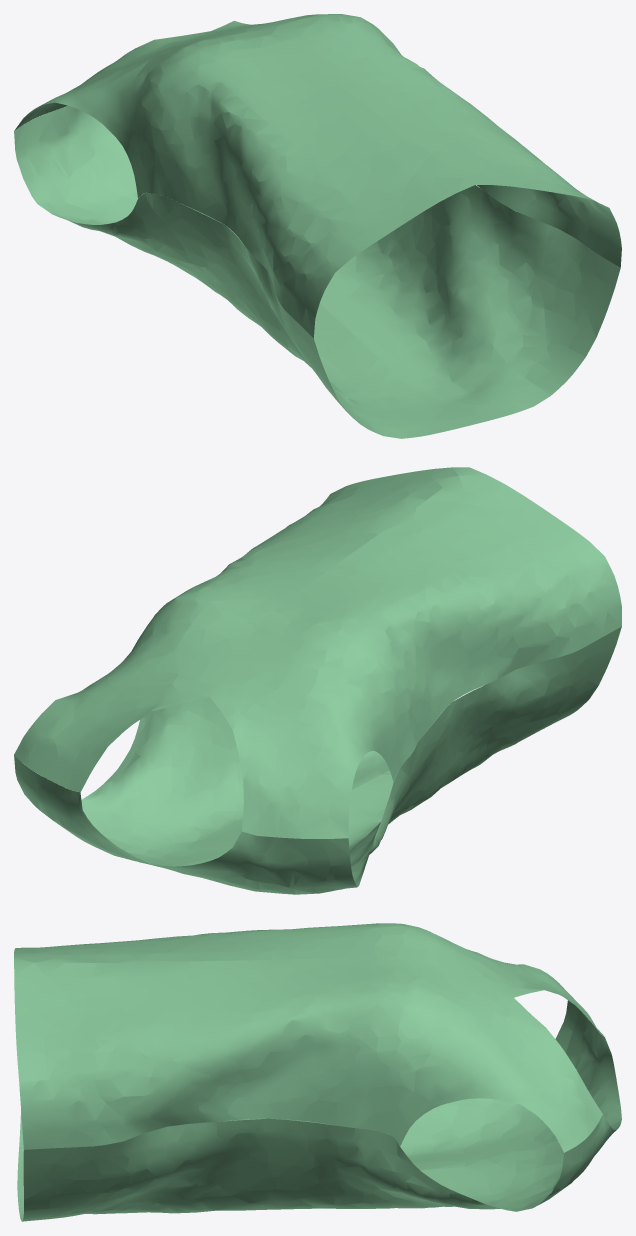
Rendered from hey_doubleface_try.fbx.
The picture shows the model from 3 angles, top to bottom: view 1: azimuth 30°, elevation 25°; view 2: azimuth 150°, elevation 25°; view 3: azimuth 270°, elevation 25°; orthographic projection. The views are drawn at different scales.
Parts seen in each view (by area): view 1: Object1; view 2: Object1; view 3: Object1.
Part boxes in pixels (left/top/right/bottom): Object1: left=14, top=14, right=621, bottom=438; Object1: left=14, top=467, right=621, bottom=894; Object1: left=14, top=923, right=621, bottom=1221.
Size of the model in its own units: 5.6 by 4.02 by 9.17.
